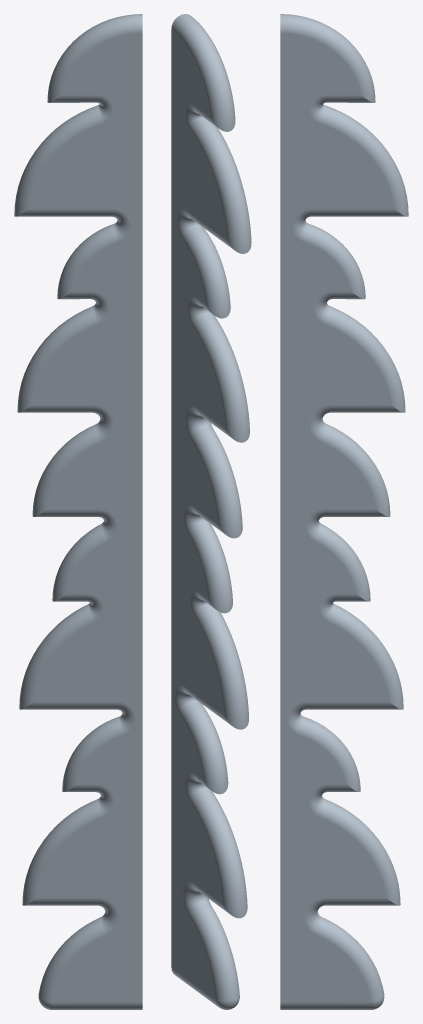
File: escamas.dae
The picture shows the model from 3 angles, left to right: view 1: azimuth 90°, elevation 25°; view 2: azimuth 210°, elevation 25°; view 3: azimuth 270°, elevation 25°; orthographic projection. The views are drawn at different scales.
Visible parts, largest first — view 1: g 1; view 2: g 1; view 3: g 1.
Boxes of the visible parts, left/top/right/bottom form: g 1: left=14, top=14, right=142, bottom=1009; g 1: left=171, top=14, right=251, bottom=1009; g 1: left=280, top=14, right=408, bottom=1009.
Bounding box in the file's own units: 5 × 202 × 23.61.
